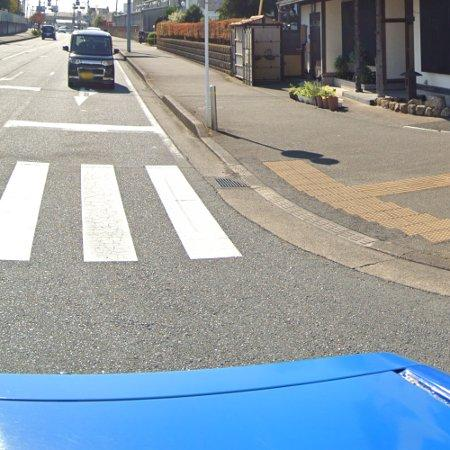crosswalks: (0, 159, 244, 266)
